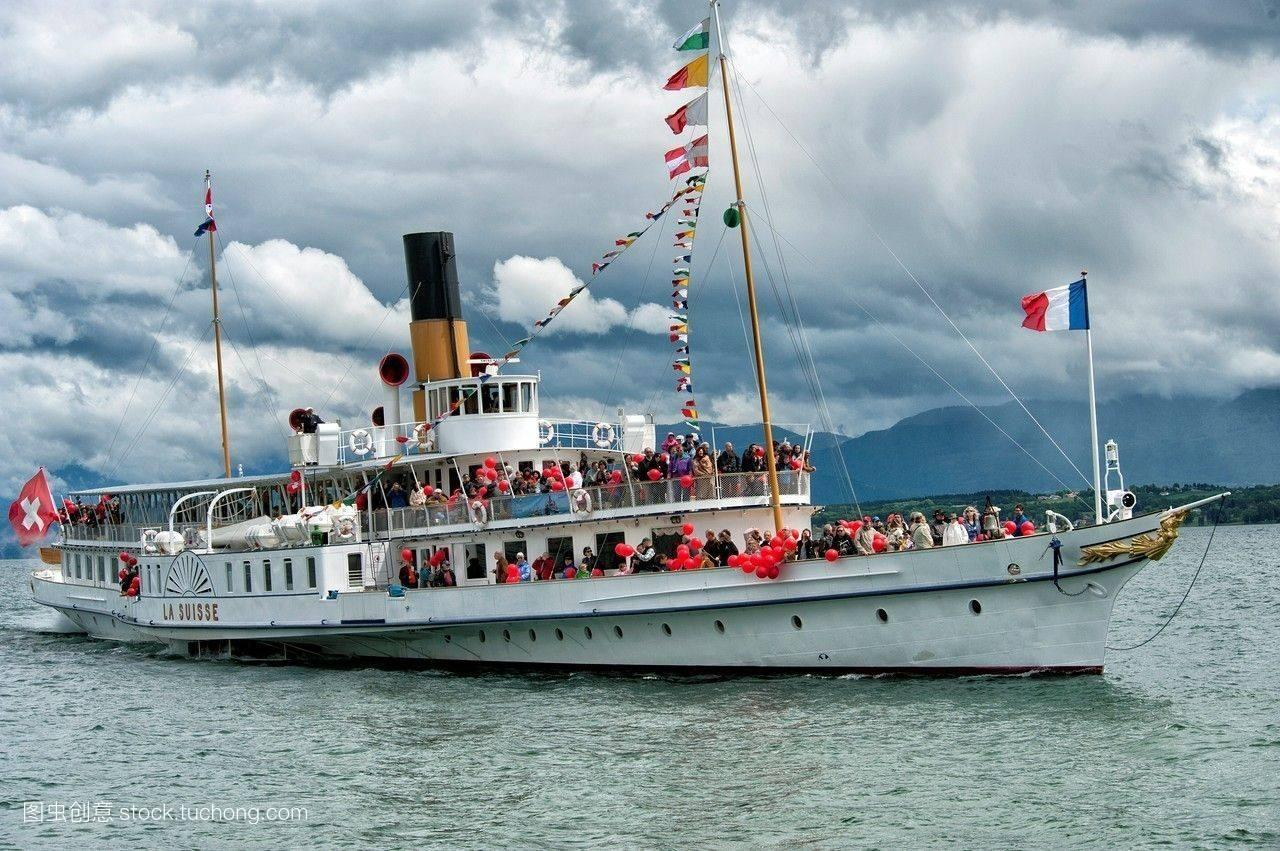otherboat: (26, 348, 1251, 674)
